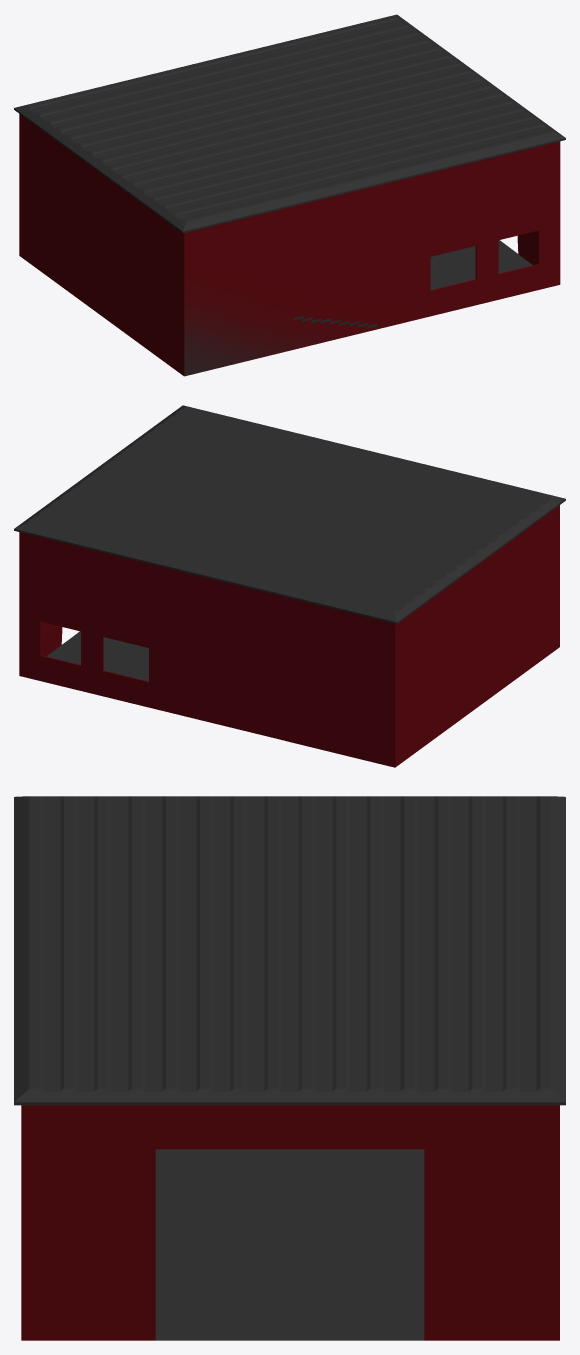
3 views of the same model, one above another, from view 1: azimuth 30°, elevation 25°; view 2: azimuth 150°, elevation 25°; view 3: azimuth 270°, elevation 25° (orthographic). The views are drawn at different scales.
Visible parts, largest first — view 1: base; view 2: base; view 3: base.
Boxes of the visible parts, x1,y1,x2,y2 form: base: (14,14,565,376); base: (14,405,565,767); base: (14,796,565,1340).
Size of the model in its own units: 1811 by 689 by 1383.
Materials: 1 (1 with a texture image).
